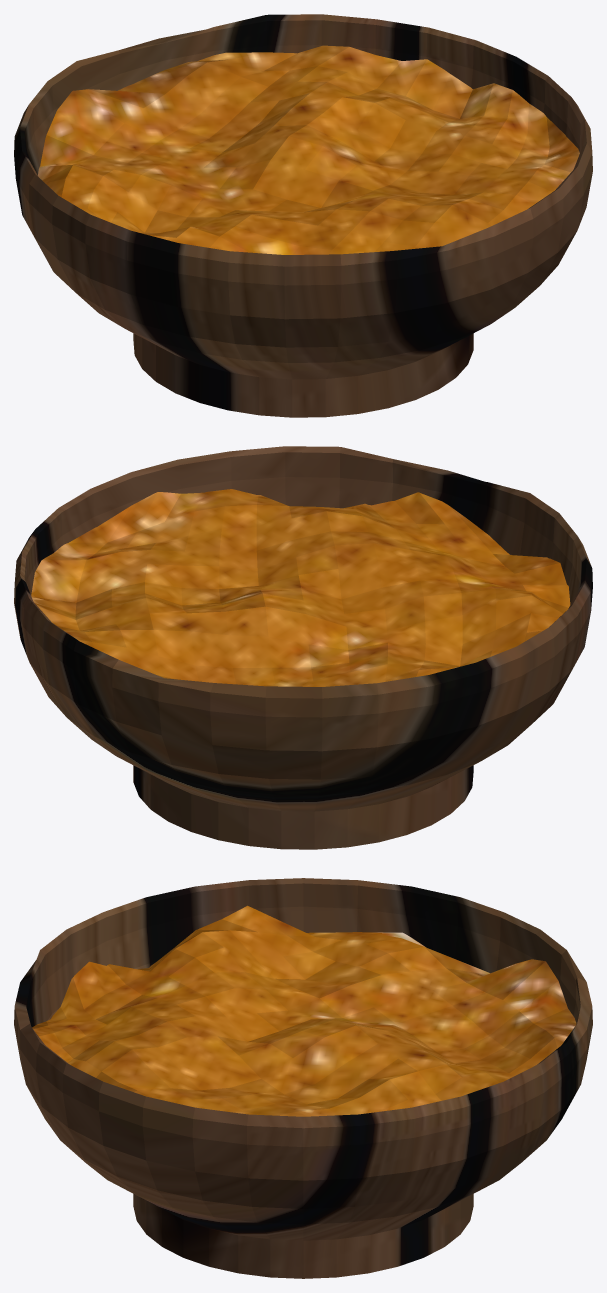
File: PeanutSauce.fbx
3 renders of one model, top to bottom at view 1: azimuth 30°, elevation 25°; view 2: azimuth 150°, elevation 25°; view 3: azimuth 270°, elevation 25°, orthographic.
Parts seen in each view (by area): view 1: Bowl, PeanutSauce; view 2: Bowl, PeanutSauce; view 3: Bowl, PeanutSauce.
Boxes of the visible parts, x1=… form: Bowl: x1=14, y1=14, x2=592, y2=417; PeanutSauce: x1=38, y1=45, x2=579, y2=254; Bowl: x1=14, y1=446, x2=592, y2=849; PeanutSauce: x1=31, y1=489, x2=570, y2=686; Bowl: x1=14, y1=878, x2=592, y2=1278; PeanutSauce: x1=32, y1=905, x2=576, y2=1116.
Bounding box in the file's own units: 403 × 162 × 403.
